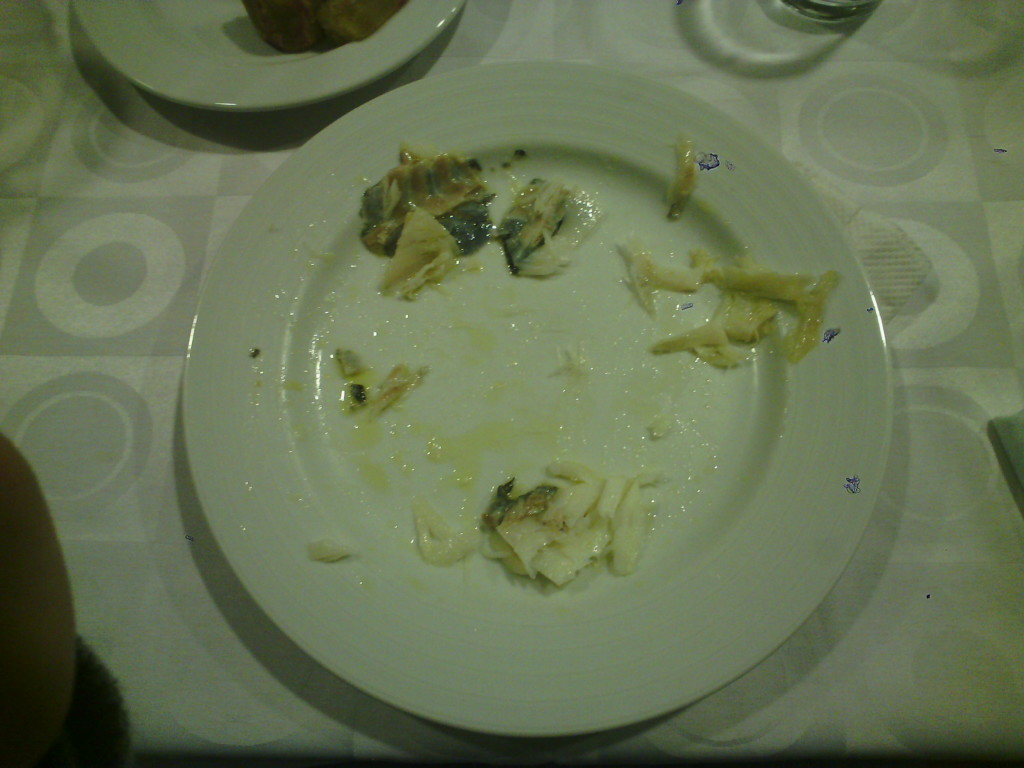0-20: (197, 64, 894, 730)
